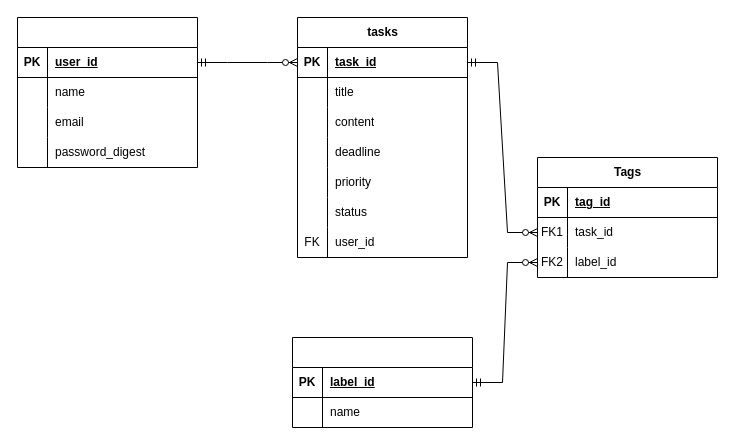
The diagram is 735 pixels wide and 445 high, and some of its shapes have lost their labels. The box of each missing label's shape, as (x1, y1, x2, y2) in pixels:
Labels: (292, 336, 472, 428)
Users: (16, 16, 198, 168)
